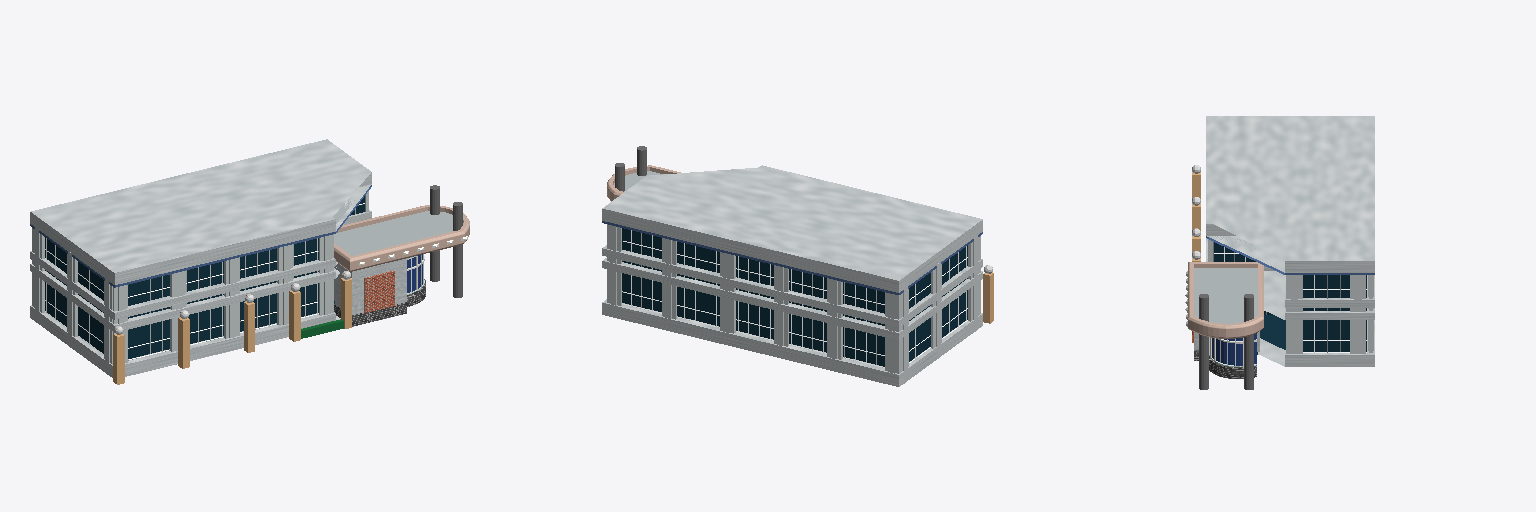
3 views of the same model, side by side, from view 1: azimuth 30°, elevation 25°; view 2: azimuth 150°, elevation 25°; view 3: azimuth 270°, elevation 25° (orthographic).
Visible parts, largest first — view 1: __06, __04, __02, __15, Rectangle06, __03, Rectangle02, __05, Box02, Rectangle03, Rectangle04, __01 (+7 smaller); view 2: __06, __04, __02, __03, __15, __05, __01, ______19, ______25, Box17023; view 3: __06, __04, Rectangle06, Rectangle02, __02, __15, __03, Cylinder01, Cylinder04, Line03, ______33, Rectangle04.
Part boxes in pixels (x1,y1,x2,y2): __06: (30,139,371,284); __04: (45,196,364,358); __02: (30,305,340,377); __15: (30,210,371,319); Rectangle06: (334,211,452,255); __03: (30,264,339,332); Rectangle02: (334,205,469,271); __05: (45,203,364,360); Box02: (334,266,406,314); Rectangle03: (364,271,394,312); Rectangle04: (334,279,425,326); __01: (30,185,371,287); __06: (602,165,982,292); __04: (622,228,967,366); __02: (602,299,982,386); __03: (602,258,982,339); __15: (602,245,982,327); __05: (622,230,967,367); __01: (602,221,982,294); ______19: (885,292,900,373); ______25: (720,252,735,333); Box17023: (983,272,993,323); __06: (1206,116,1374,272); __04: (1214,242,1366,351); Rectangle06: (1194,268,1257,323); Rectangle02: (1188,262,1263,338); __02: (1258,320,1374,366); __15: (1206,238,1374,307); __03: (1264,298,1374,319); Cylinder01: (1199,294,1208,389); Cylinder04: (1244,294,1253,389); Line03: (1212,333,1256,365); ______33: (1286,275,1302,353); Rectangle04: (1194,350,1257,378).
Bounding box in the file's own units: 34.83 × 9.71 × 15.64.
17 materials, 3 textured.